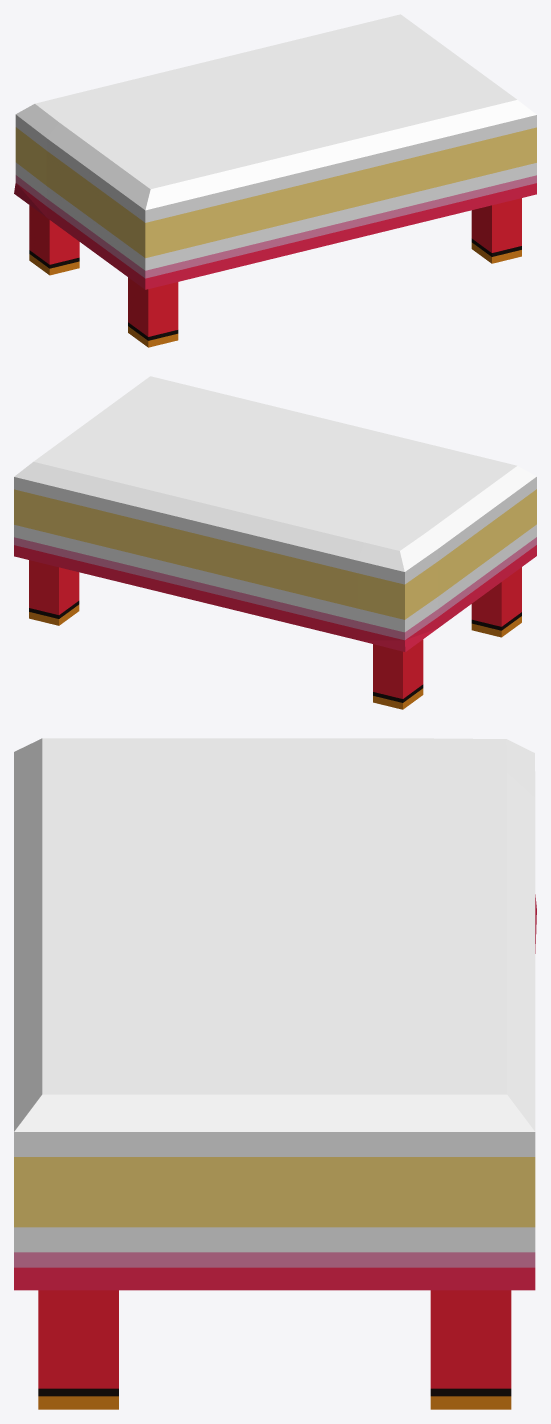
Rendered from Takja1-2.fbx.
The picture shows the model from 3 angles, top to bottom: view 1: azimuth 30°, elevation 25°; view 2: azimuth 150°, elevation 25°; view 3: azimuth 270°, elevation 25°; orthographic projection. The views are drawn at different scales.
Parts seen in each view (by area): view 1: Takja1-2; view 2: Takja1-2; view 3: Takja1-2.
Part boxes in pixels (x1,y1,x2,y2): Takja1-2: [14, 14, 536, 347]; Takja1-2: [14, 376, 536, 709]; Takja1-2: [14, 738, 536, 1409].
Bounding box in the file's own units: 0.7689 × 0.2942 × 0.447.
